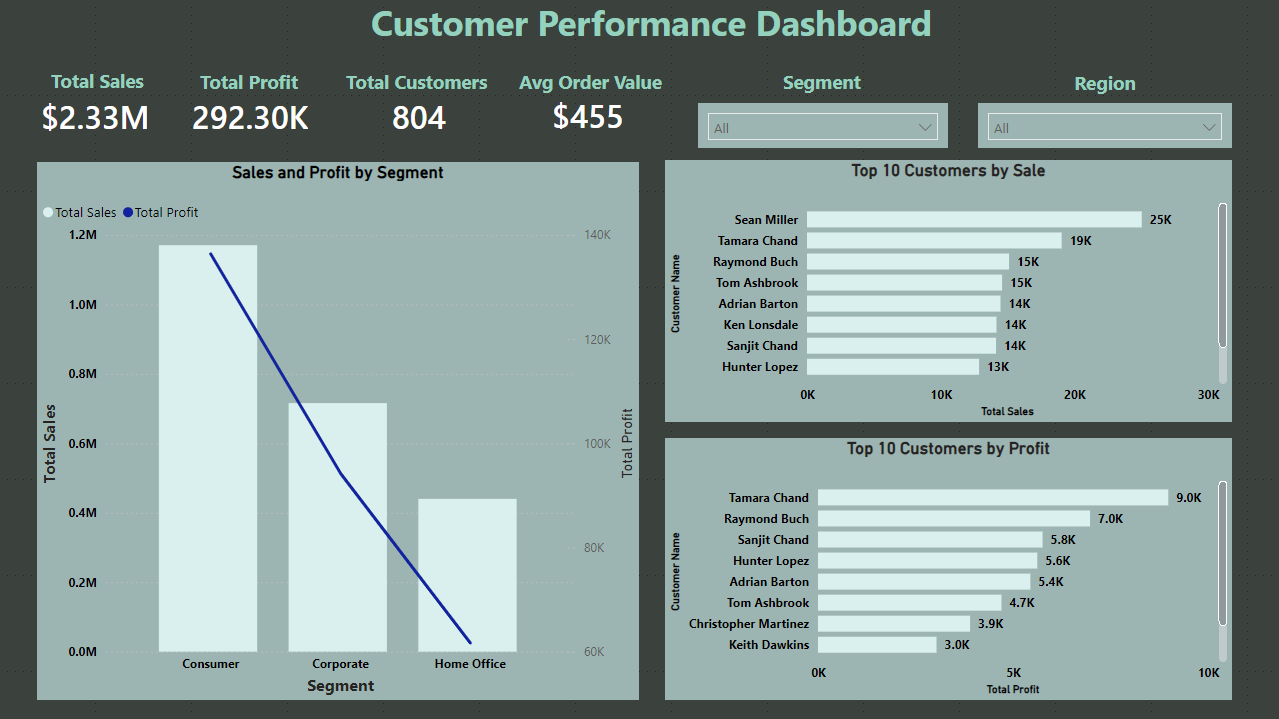

The dashboard page shown, as its layout file describes it:
{"tool":"powerbi","page":{"name":"Customer Performance Dashboard","canvas":[1280,720],"ordinal":2},"visuals":[{"type":"textbox","title":"Customer Performance Dashboard","box":[367.2,0,573,45.5],"z":0},{"type":"textbox","title":"Total Sales","box":[46.5,69.3,104.1,25.3],"z":1000},{"type":"textbox","title":"Total Profit","box":[196,70.3,114.8,25.3],"z":2000},{"type":"textbox","title":"Total Customers","box":[342.4,70.3,155.4,24.7],"z":3000},{"type":"textbox","title":"Avg Order Value","box":[514.6,70.3,154.4,25.7],"z":4000},{"type":"cardVisual","title":"Total Sales","fields":{"Data":["Measures (2).Total Sales"]},"box":[12.9,82.1,172.2,67.3],"z":5000},{"type":"cardVisual","title":"Total Sales","fields":{"Data":["Measures (2).Total Profit"]},"box":[164.3,84.1,177.2,63.3],"z":6000},{"type":"cardVisual","title":"Total Sales","fields":{"Data":["Measures (2).Total Customers"]},"box":[364.2,83.1,112.8,64.3],"z":7000},{"type":"cardVisual","title":"Total Sales","fields":{"Data":["Measures (2).Average Order Value"]},"box":[523.5,82.1,130.6,65.3],"z":8000},{"type":"clusteredBarChart","title":"Top 10 Customers by Profit","fields":{"Category":["Orders.Customer Name"],"Y":["Measures (2).Total Profit"]},"box":[666.1,439.4,567.1,261.3],"z":9000},{"type":"clusteredBarChart","title":"Top 10 Customers by Sale","fields":{"Category":["Orders.Customer Name"],"Y":["Measures (2).Total Sales"]},"box":[666.1,161.3,567.1,261.6],"z":10000},{"type":"lineClusteredColumnComboChart","title":"Sales and Profit by Segment","fields":{"Category":["Orders.Segment"],"Y":["Measures (2).Total Sales"],"Y2":["Measures (2).Total Profit"]},"box":[37.6,163.3,602.7,537.4],"z":11000},{"type":"slicer","title":"Year","fields":{"Values":["Orders.Segment"]},"box":[698.7,103.9,250.4,45.5],"z":12000},{"type":"slicer","title":"Year","fields":{"Values":["Orders.Region"]},"box":[978.8,103.9,254.4,45.5],"z":13000},{"type":"textbox","title":"Segment","box":[778.9,70.3,91.1,25.7],"z":14000},{"type":"textbox","title":"Region","box":[1040.2,71.3,131.6,25.7],"z":15000}]}

Visuals, with their boxes in screenshot pixels (x1, y1, x2, y2), scaled from the page's 1280x720 canvas onto the 1279x719 screenshot:
"Customer Performance Dashboard" textbox: l=367, t=0, r=939, b=45
"Total Sales" textbox: l=46, t=69, r=150, b=94
"Total Profit" textbox: l=196, t=70, r=311, b=95
"Total Customers" textbox: l=342, t=70, r=497, b=95
"Avg Order Value" textbox: l=514, t=70, r=668, b=96
"Total Sales" cardVisual: l=13, t=82, r=185, b=149
"Total Sales" cardVisual: l=164, t=84, r=341, b=147
"Total Sales" cardVisual: l=364, t=83, r=477, b=147
"Total Sales" cardVisual: l=523, t=82, r=654, b=147
"Top 10 Customers by Profit" clusteredBarChart: l=666, t=439, r=1232, b=700
"Top 10 Customers by Sale" clusteredBarChart: l=666, t=161, r=1232, b=422
"Sales and Profit by Segment" lineClusteredColumnComboChart: l=38, t=163, r=640, b=700
"Year" slicer: l=698, t=104, r=948, b=149
"Year" slicer: l=978, t=104, r=1232, b=149
"Segment" textbox: l=778, t=70, r=869, b=96
"Region" textbox: l=1039, t=71, r=1171, b=97
